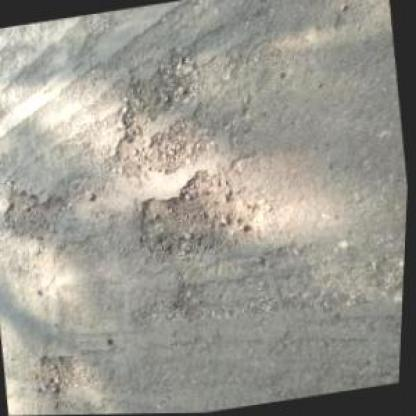pothole: (130, 158, 272, 270), (112, 53, 202, 133), (110, 115, 212, 185), (1, 175, 78, 245), (37, 346, 88, 411)
